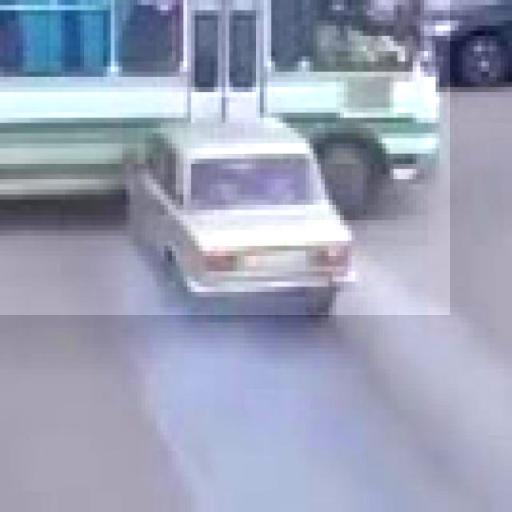小汽车撞小汽车: (0, 0, 450, 315)
